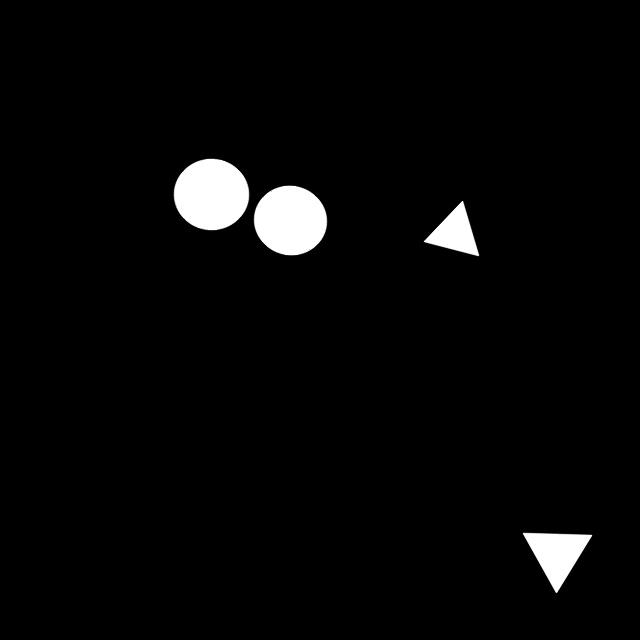Circle: (164, 152, 256, 243), (252, 177, 336, 269)
Triangle: (509, 516, 599, 600), (417, 197, 489, 266)
